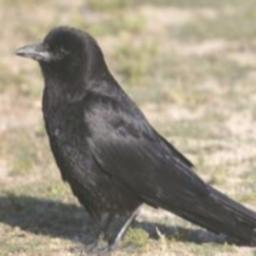Crow: (11, 23, 256, 256)
